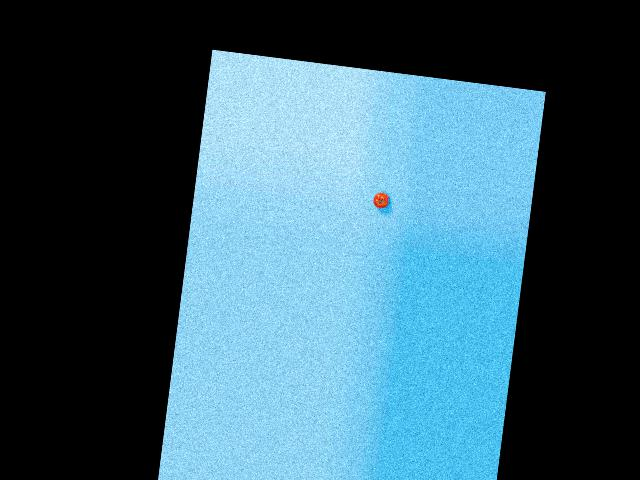tomato: (372, 192, 389, 210)
